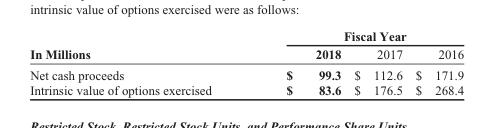table: (29, 28, 463, 97)
table column: (29, 28, 248, 97), (248, 28, 346, 97), (346, 28, 408, 97), (408, 28, 463, 97)
table column header: (29, 28, 463, 64)
table row: (29, 44, 463, 64), (29, 64, 463, 82), (29, 28, 463, 44), (29, 82, 463, 97)
table spanning cell: (29, 28, 248, 64), (248, 28, 463, 44)
